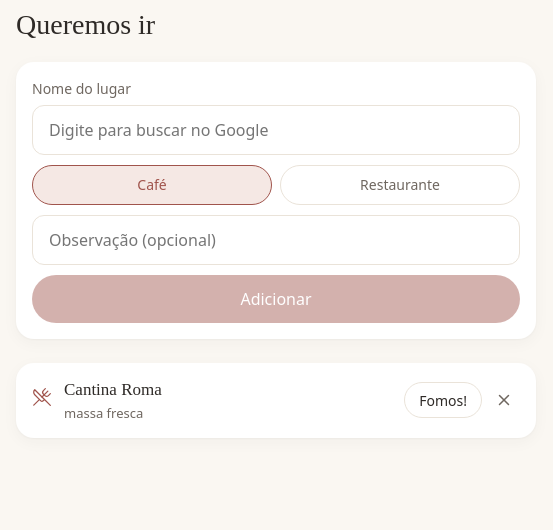
Test case: adiciona um café
Type "Café Lumi" into the field labelled "Nome do lugar" at {"x": 276, "y": 130}, box [32,105,520,155]
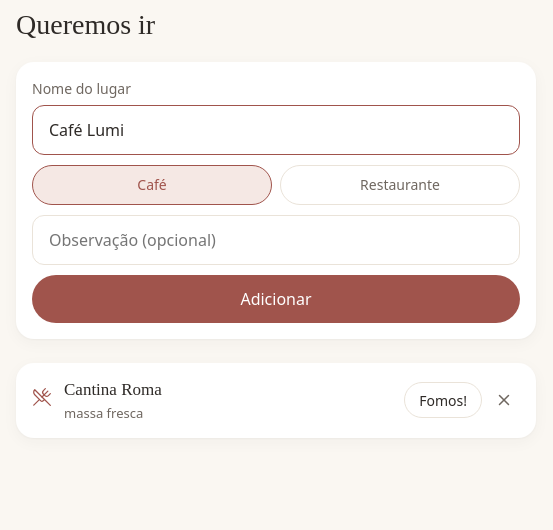
Click the button "Adicionar" at {"x": 276, "y": 299}, box [32,275,520,323]
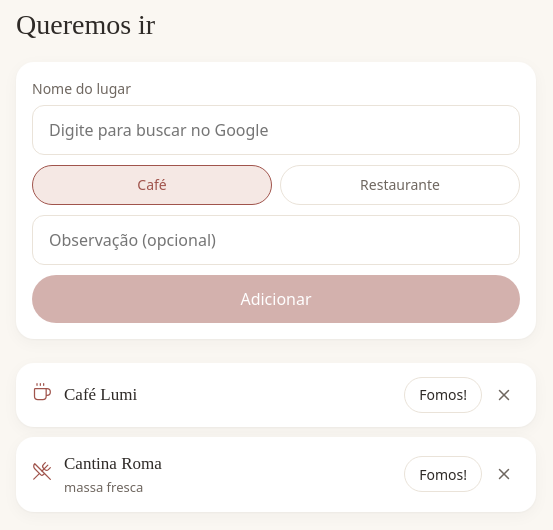
expect the text "Café Lumi" is shown: met, box [64,385,137,404]
